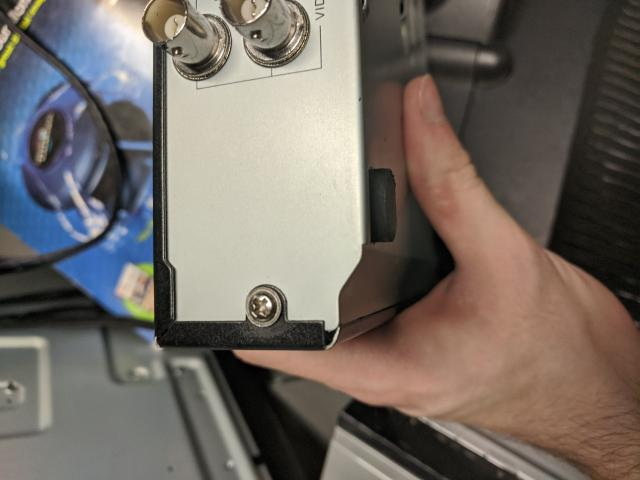CRS: (249, 292, 277, 325)
